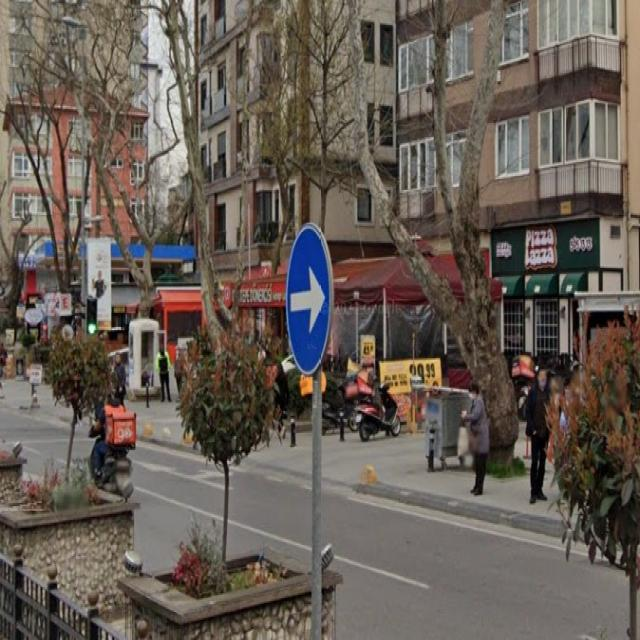Turn Right: (283, 231, 335, 368)
